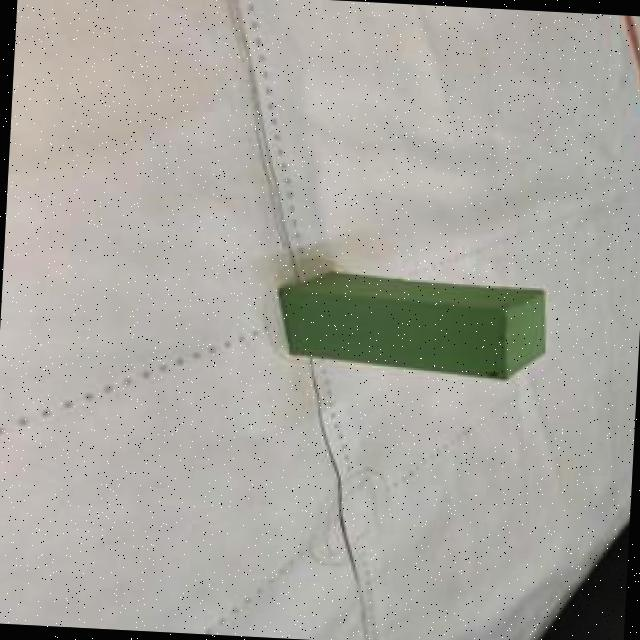greenbox: (276, 268, 551, 384)
